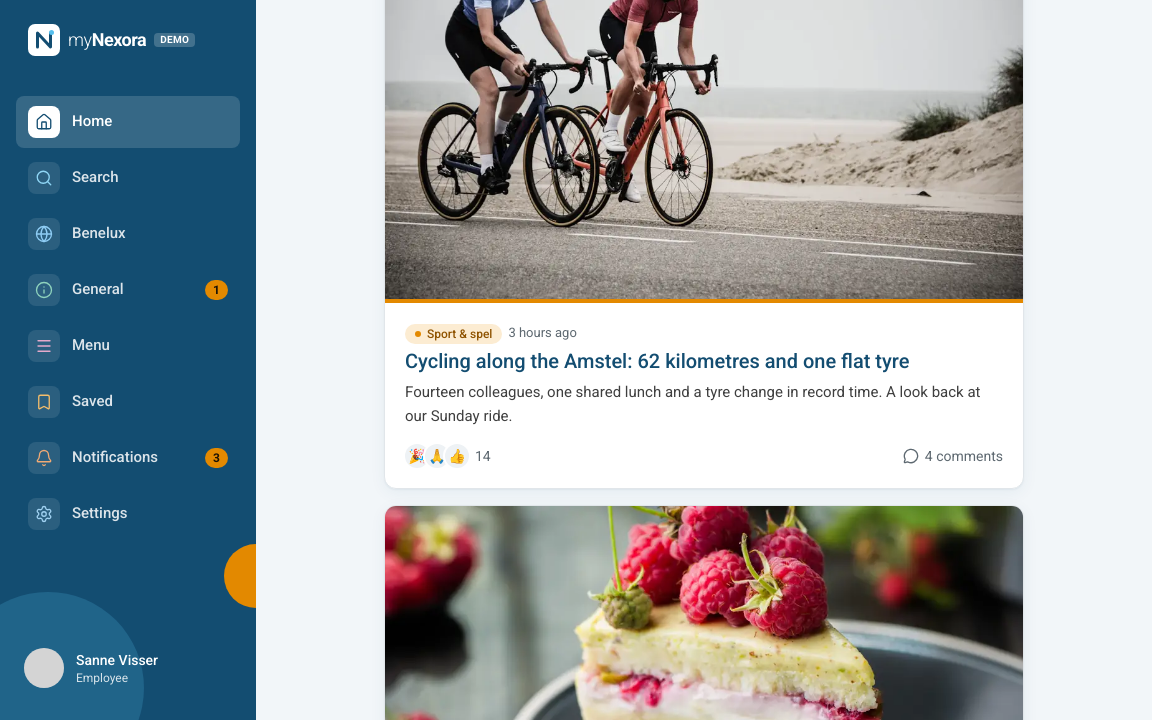
Scenario: App › opens an article, reacts to it and saves it
(page scrolled)
Click the link "Cycling along the Amstel: 62 kilometres and one flat tyre". click: click(657, 361)
box: 405,349 -> 909,373
(page scrolled)
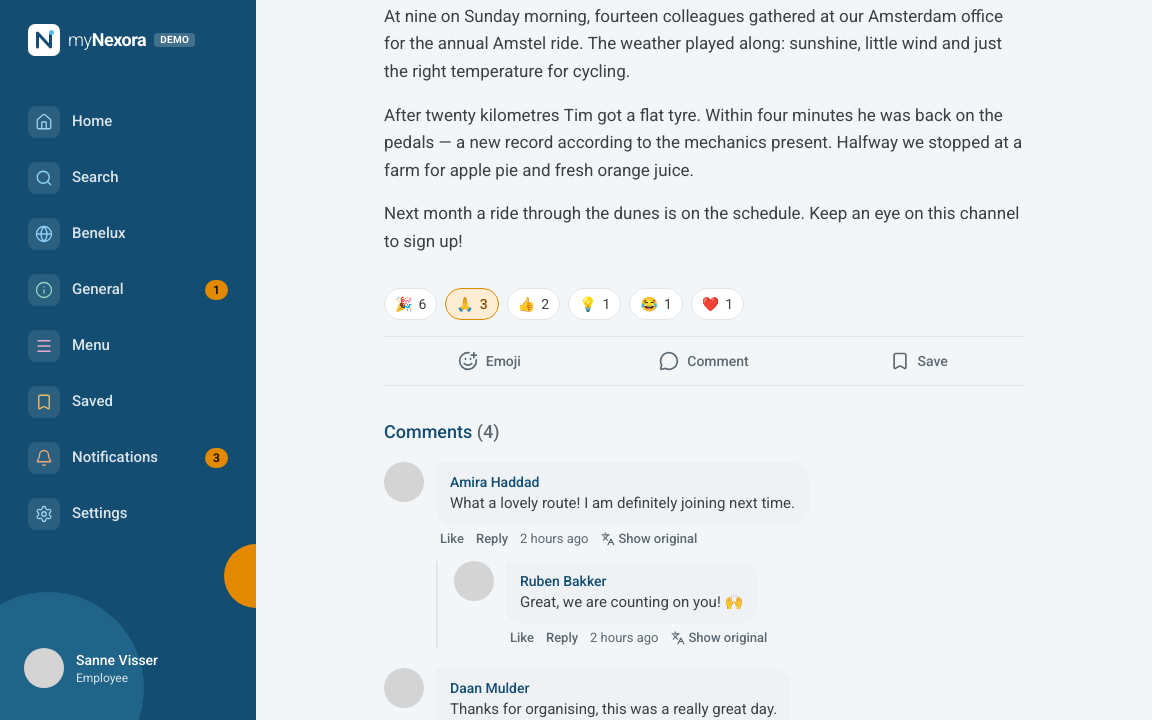
Click the button "Save". click: click(919, 361)
box: 813,341 -> 1024,381
(page scrolled)
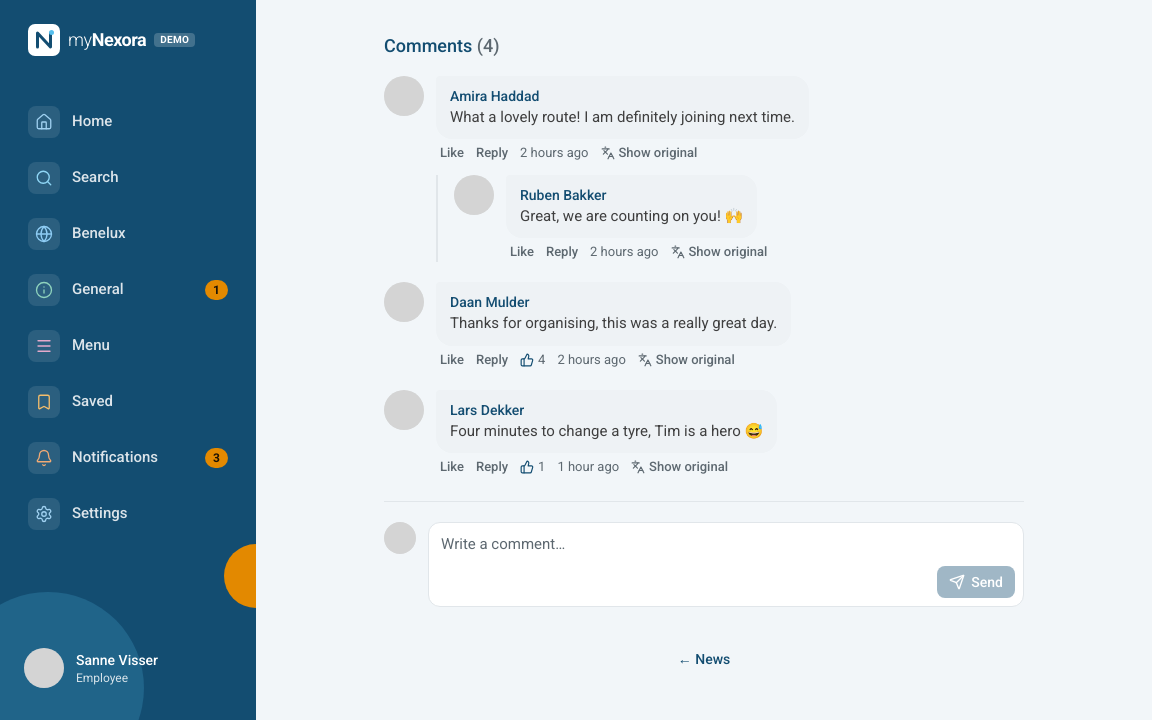
Type "Wat een mooi verhaal" into the text box. click: (726, 545)
box: 429,523 -> 1023,566
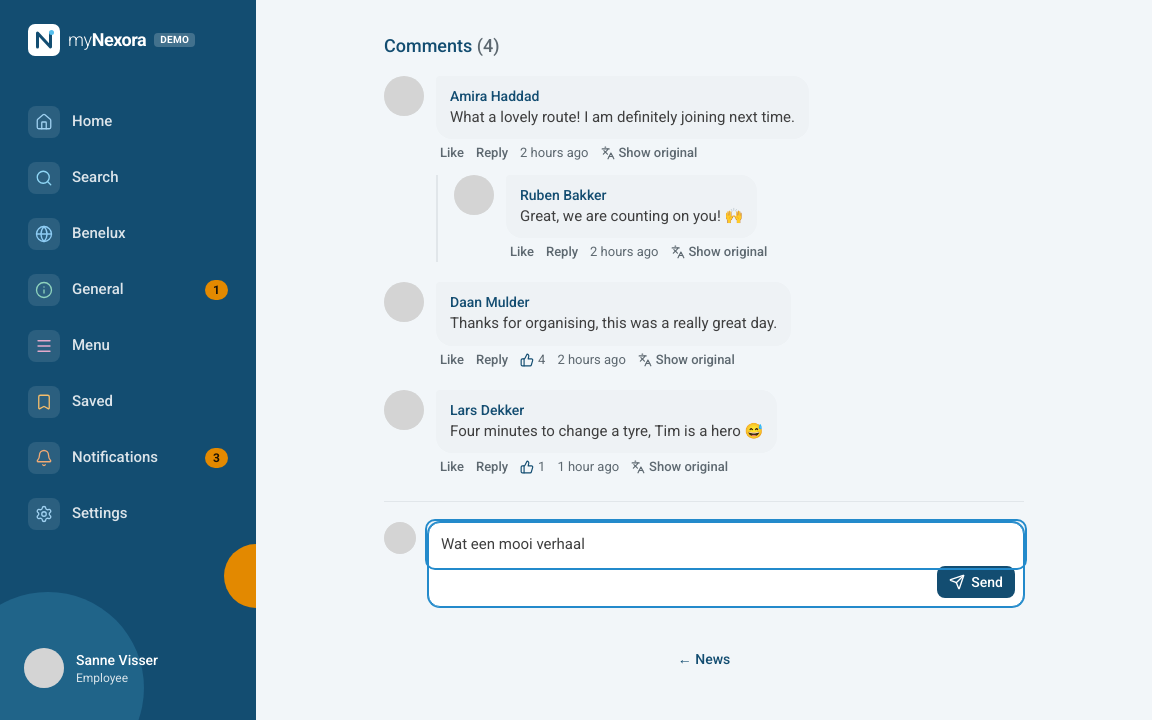
Click the button "Send". click: click(976, 582)
box: 937,566 -> 1015,598
(page scrolled)
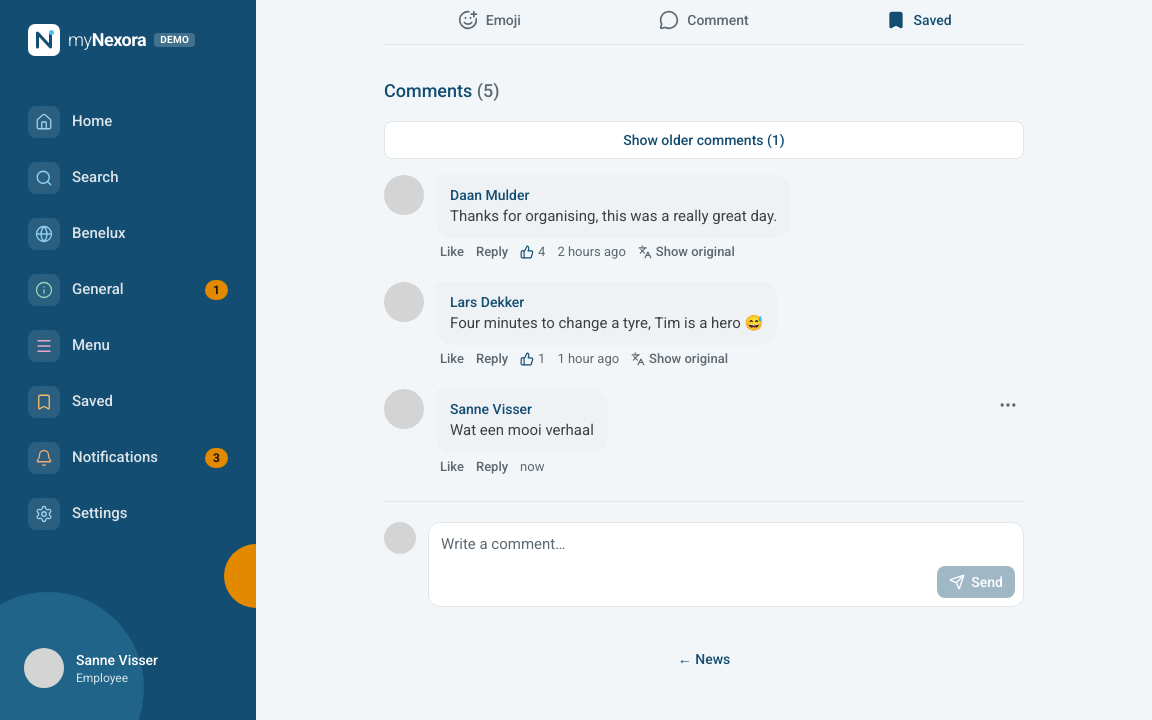
Expected: the text "Wat een mooi verhaal" is shown, 450,419 -> 594,443
